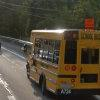Bus: (20, 23, 99, 98)
